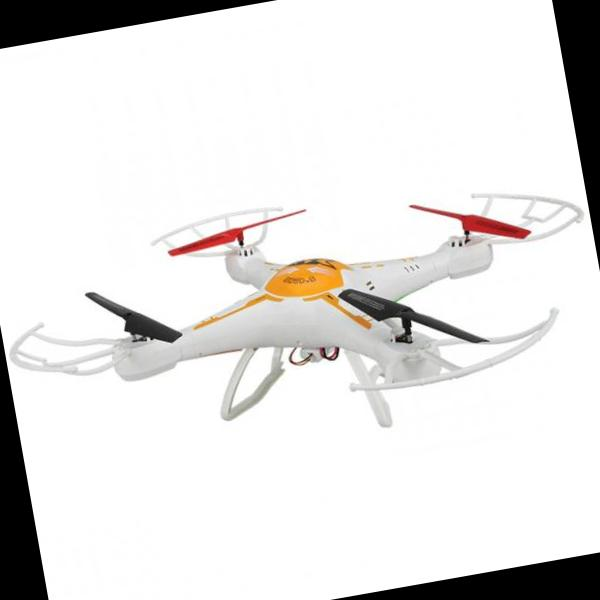drone: (0, 140, 600, 495)
